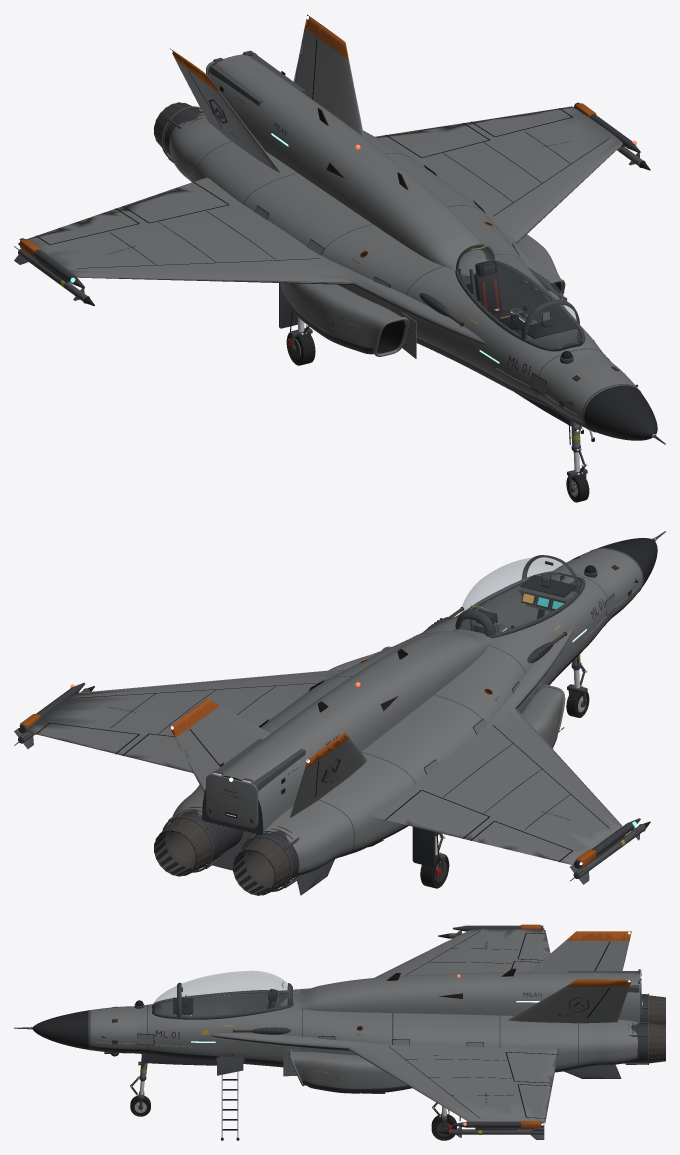
Rendered from Milan.5404b2ab29.glb.
3 views of the same model, one above another, from view 1: azimuth 30°, elevation 25°; view 2: azimuth 150°, elevation 25°; view 3: azimuth 270°, elevation 25° (orthographic). The views are drawn at different scales.
Parts seen in each view (by area): view 1: Einlaufschaufel links.001, HUD-Scheibe.001, Rumpf.004, Absaugloch.040, Hauptfuge.005, Bauchflosse links.001, Holmfuge.004, Abstandshalter.006, Cockpitwanne.001, Einlauflippe.002, Seitenleitwerk links.001, Kopfpolster.001 (+5 smaller); view 2: Einlaufschaufel links.001, HUD-Scheibe.001, Brennkammer.002, Abstandshalter.006, Absaugloch.040, Klappe.013, Hauptfuge.005, Holmfuge.004, Bauchflosse links.001, Cockpitwanne.001, Rumpf.004, Seitenleitwerk links.001 (+6 smaller); view 3: Einlaufschaufel links.001, HUD-Scheibe.001, Bauchflosse links.001, Abstandshalter.006, Cockpitwanne.001, Rumpf.004, Hauptfuge.005, Brennkammer.002, Seitenleitwerk links.001, Holmfuge.004, Absaugloch.040, Klappe.014 (+8 smaller).
Part boxes in pixels (x1,y1,x2,y2): Einlaufschaufel links.001: (27,28,639,424); HUD-Scheibe.001: (458,241,581,348); Rumpf.004: (584,385,657,440); Absaugloch.040: (220,71,637,408); Hauptfuge.005: (196,141,640,431); Bauchflosse links.001: (92,162,603,429); Holmfuge.004: (36,38,610,395); Abstandshalter.006: (18,54,640,432); Cockpitwanne.001: (461,265,580,348); Einlauflippe.002: (79,144,622,414); Seitenleitwerk links.001: (170,14,348,91); Kopfpolster.001: (475,264,513,320); Einlaufschaufel links.001: (24,548,643,873); HUD-Scheibe.001: (459,557,582,634); Brennkammer.002: (154,556,631,895); Abstandshalter.006: (18,572,640,887); Absaugloch.040: (155,556,638,894); Klappe.013: (206,774,258,828); Hauptfuge.005: (270,548,643,856); Holmfuge.004: (36,593,615,862); Bauchflosse links.001: (187,579,640,895); Cockpitwanne.001: (460,586,576,630); Rumpf.004: (597,538,657,586); Seitenleitwerk links.001: (169,699,348,769); Einlaufschaufel links.001: (88,928,639,1123); HUD-Scheibe.001: (153,971,294,1015); Bauchflosse links.001: (88,1035,637,1106); Abstandshalter.006: (110,925,647,1127); Cockpitwanne.001: (161,993,287,1016); Rumpf.004: (32,1010,88,1049); Hauptfuge.005: (89,982,578,1068); Brennkammer.002: (104,995,665,1063); Seitenleitwerk links.001: (565,931,631,987); Holmfuge.004: (137,930,609,1118); Absaugloch.040: (103,968,516,1079); Klappe.014: (137,1034,483,1076).
Bounding box in the file's own units: 11.55 × 4.28 × 15.82.
